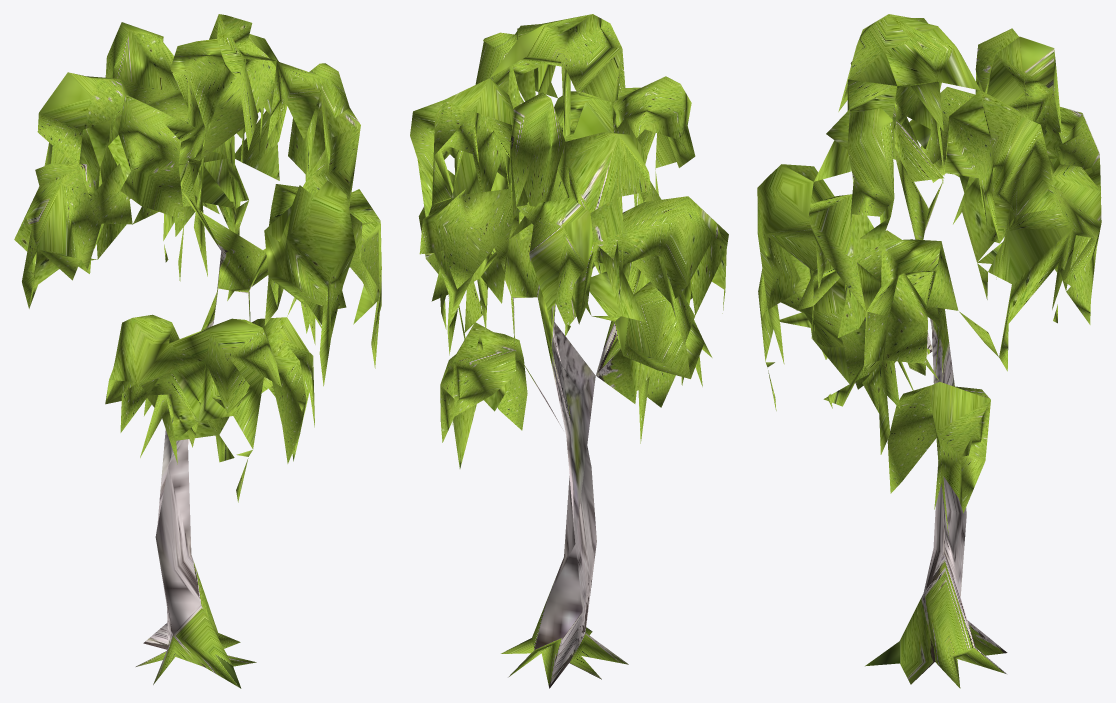
The model's file is birch_far.glb.
3 views of the same model, side by side, from view 1: azimuth 30°, elevation 25°; view 2: azimuth 150°, elevation 25°; view 3: azimuth 270°, elevation 25° (orthographic). The views are drawn at different scales.
Bounding box in the file's own units: 0.5002 × 0.9517 × 0.4589.
Materials: 1 (1 with a texture image).
